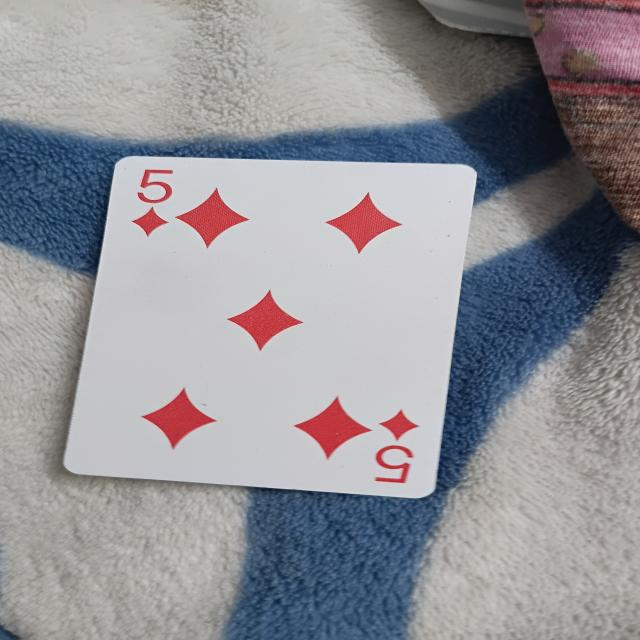5D: (59, 158, 471, 497)
